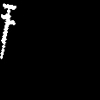double_crochet: (0, 4, 15, 58)
